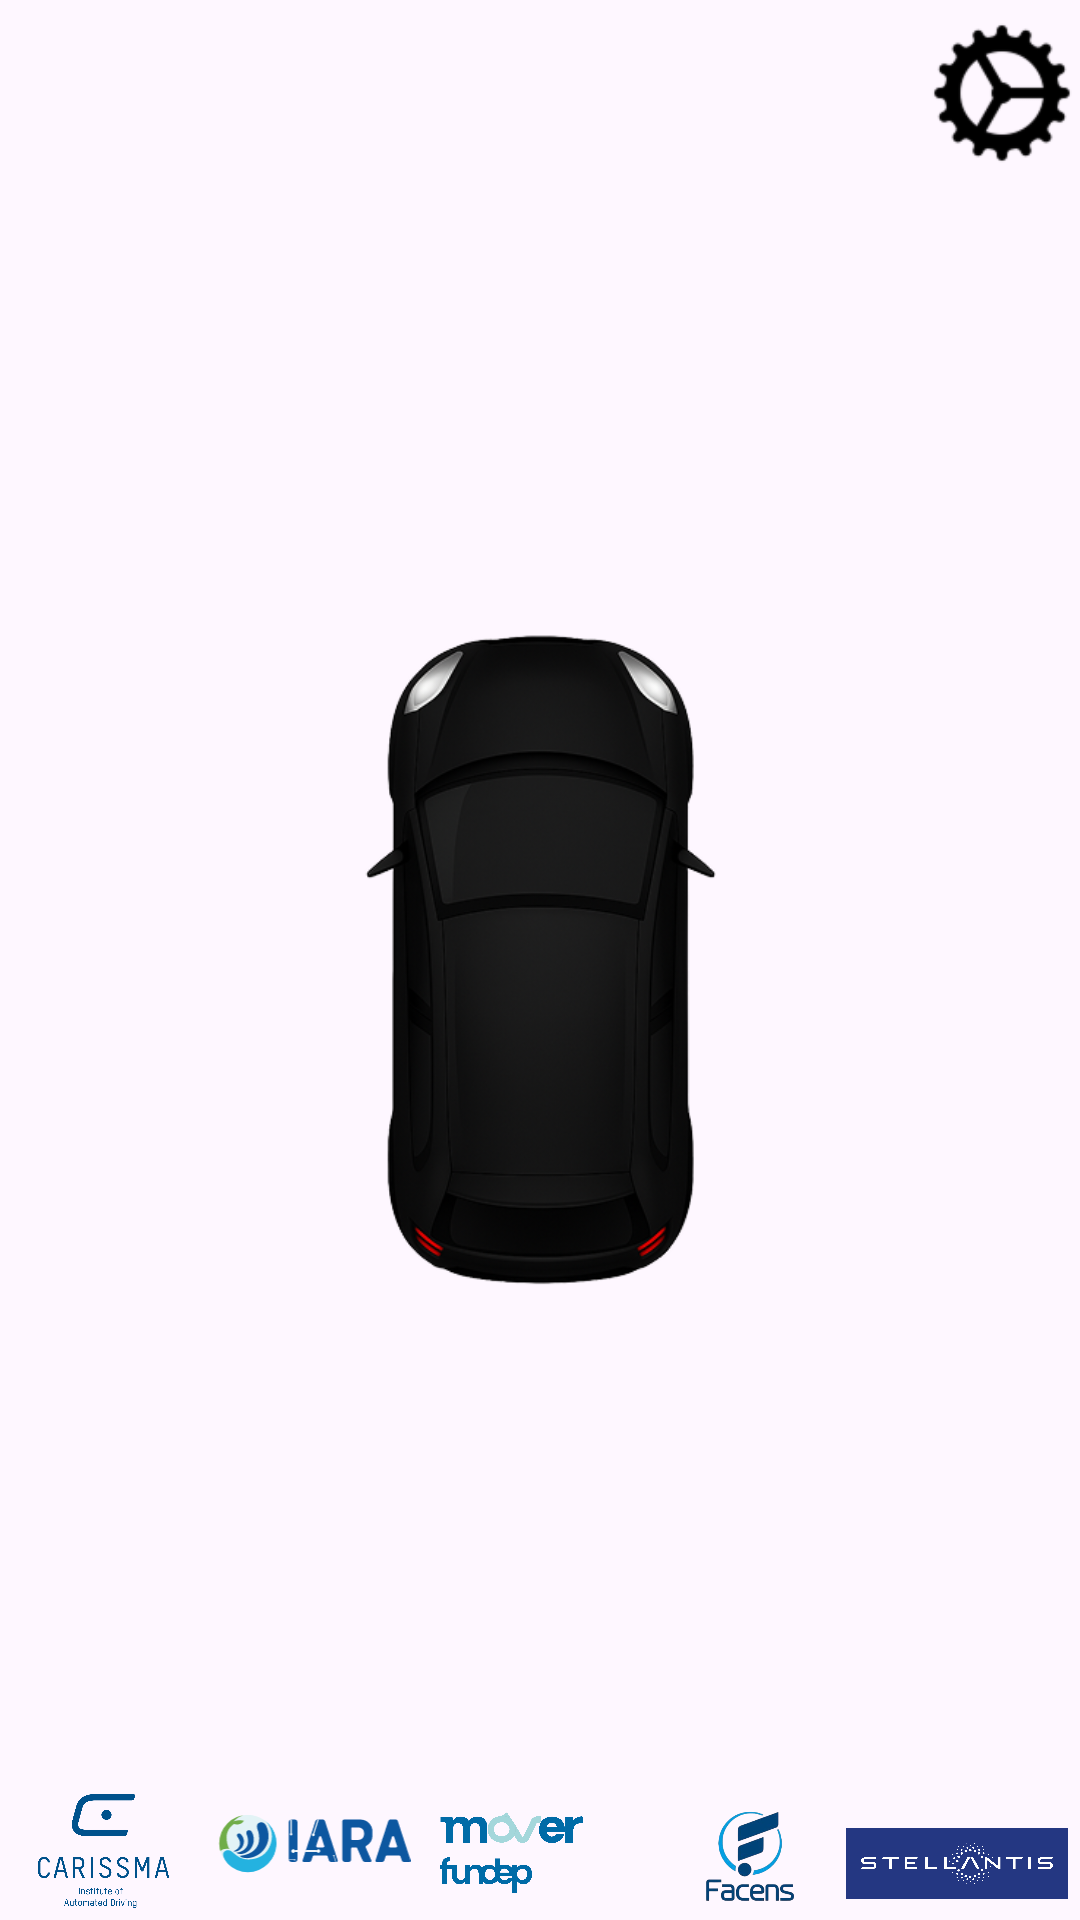

Where icons sit on this 1080px x 1920px app screen, as (x1, y1, x2, y2):
settings: (934, 25, 1070, 161)
